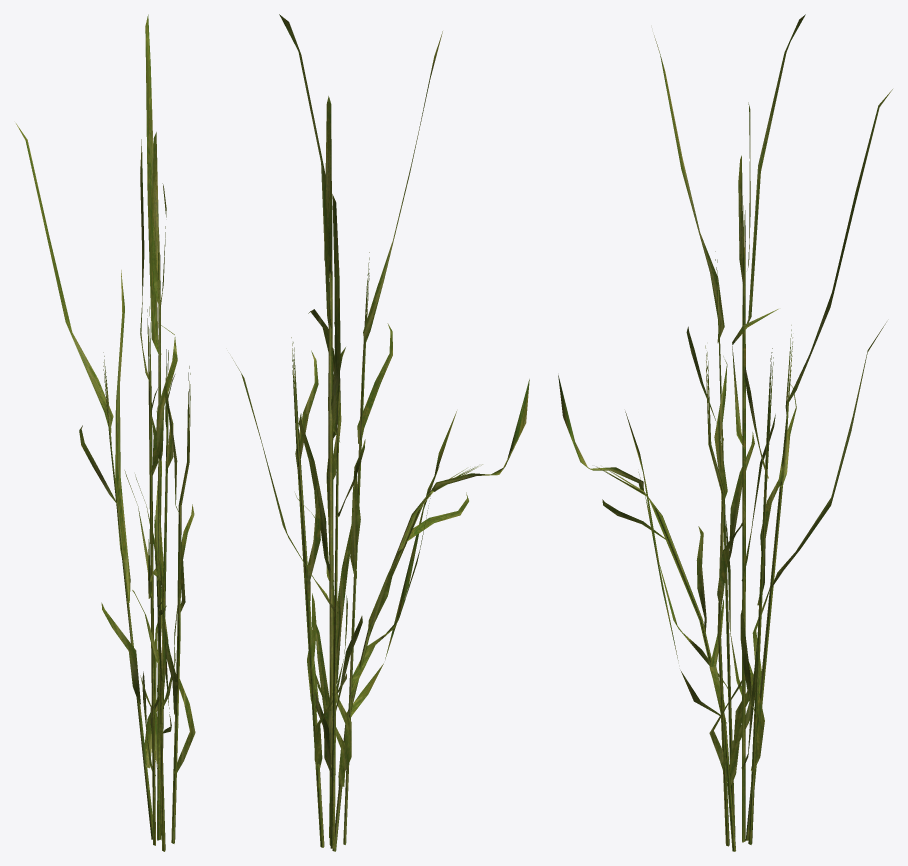
The model's file is Alge.glb.
3 renders of one model, left to right at view 1: azimuth 30°, elevation 25°; view 2: azimuth 150°, elevation 25°; view 3: azimuth 270°, elevation 25°, orthographic. The views are drawn at different scales.
Visible parts, largest first — view 1: Grass_Tall_A_spring-summer; view 2: Grass_Tall_A_spring-summer; view 3: Grass_Tall_A_spring-summer.
Boxes of the visible parts, x1,y1,x2,y2 form: Grass_Tall_A_spring-summer: [16, 14, 195, 851]; Grass_Tall_A_spring-summer: [232, 14, 529, 851]; Grass_Tall_A_spring-summer: [558, 14, 892, 851].
Bounding box in the file's own units: 0.6285 × 3.66 × 1.32.
1 material, 1 textured.
